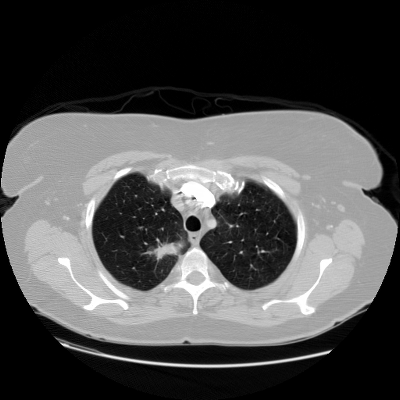nodule: (156, 240, 176, 260)
